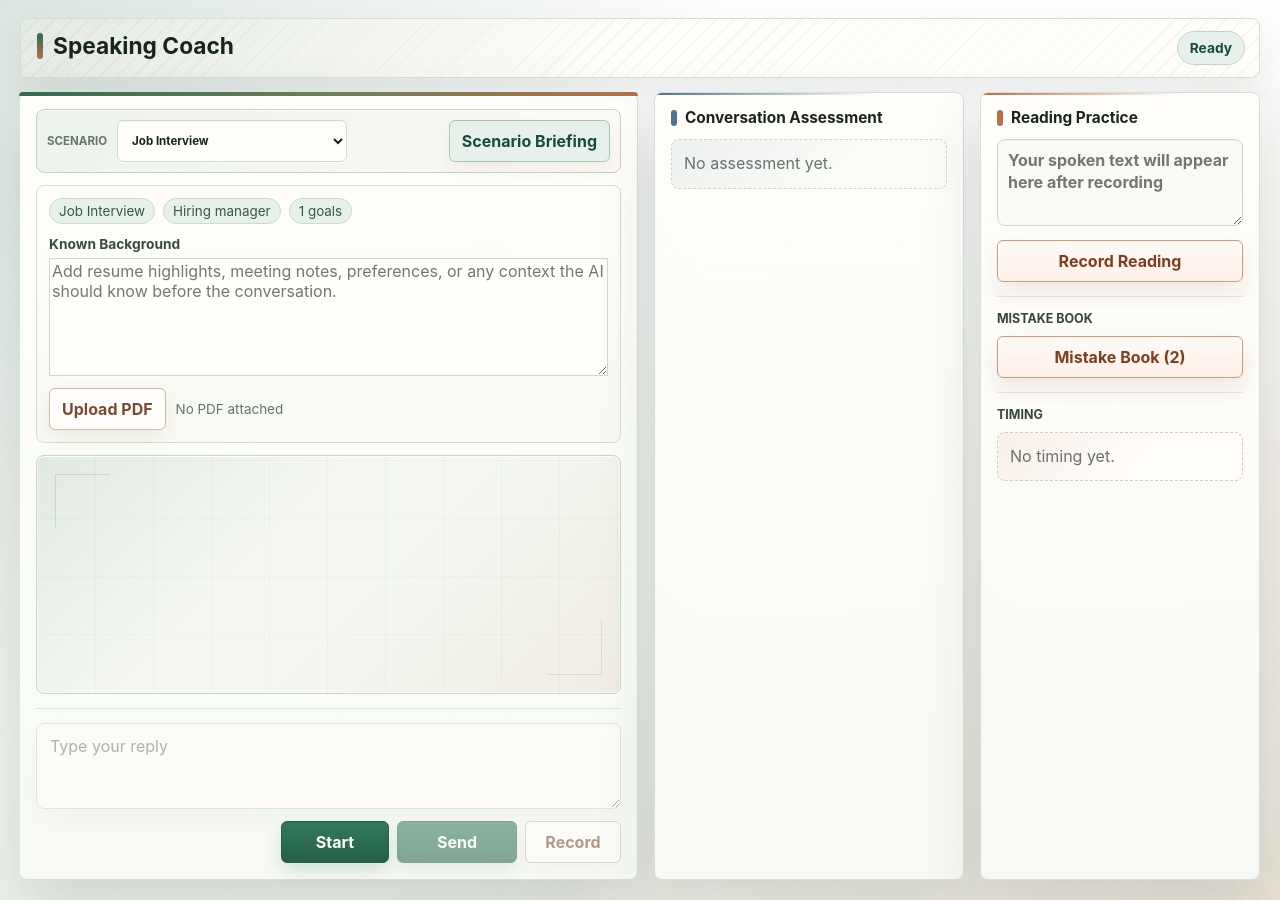
Test: loads scenarios and starts a session
The width and height of the screenshot is (1280, 900).
Expected: the heading "Speaking Coach" is shown, [37,33,234,59]
Expected: the dropdown labelled "Scenario" shows "Job Interview", [117,120,347,162]
Click the button "Start": (335, 842) [281,821,389,863]
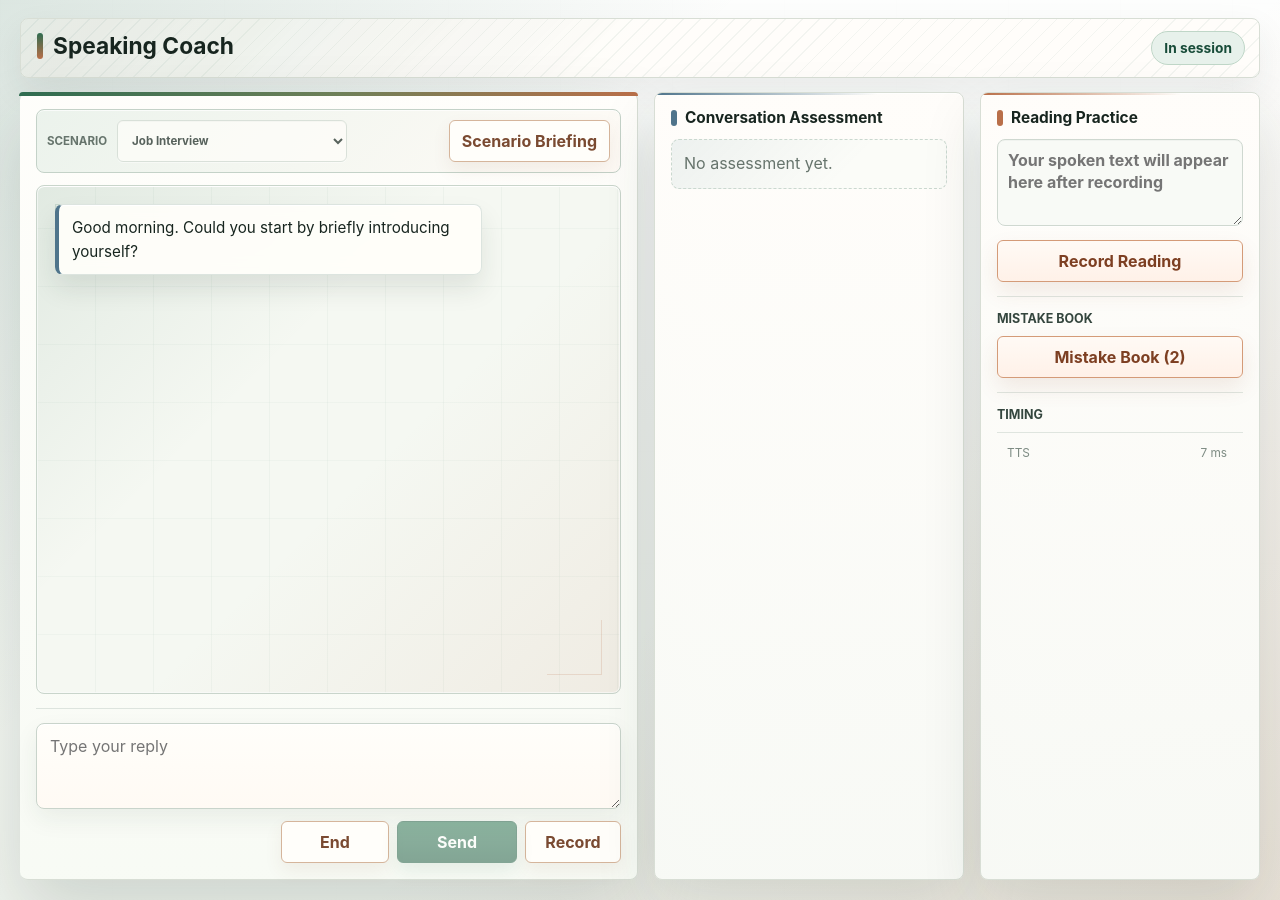
Result: the text "Good morning. Could you start by briefly introducing yourself?" is shown at [72,216,468,263]
Result: the button "End" is shown at [281,821,389,863]
